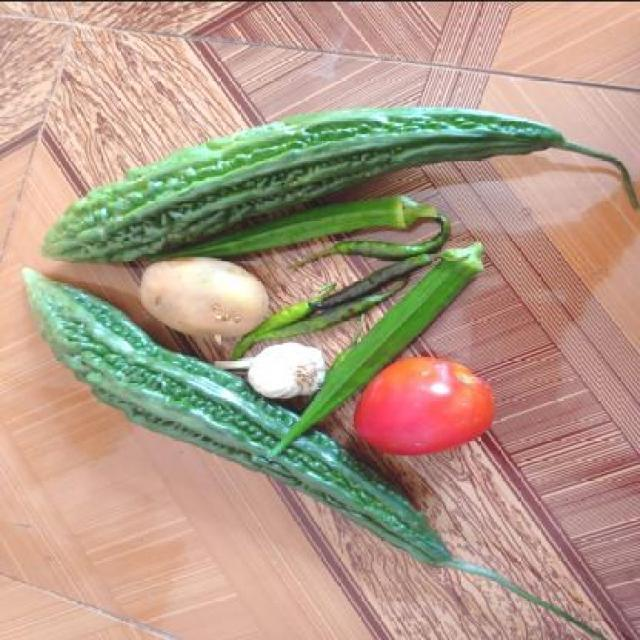Bitter melon: (22, 103, 550, 214)
Garlic: (250, 340, 328, 398)
Green Chili: (286, 229, 416, 334)
Lady finger: (202, 182, 430, 240)
Potato: (142, 257, 264, 340)
Tomato: (348, 351, 488, 458)
